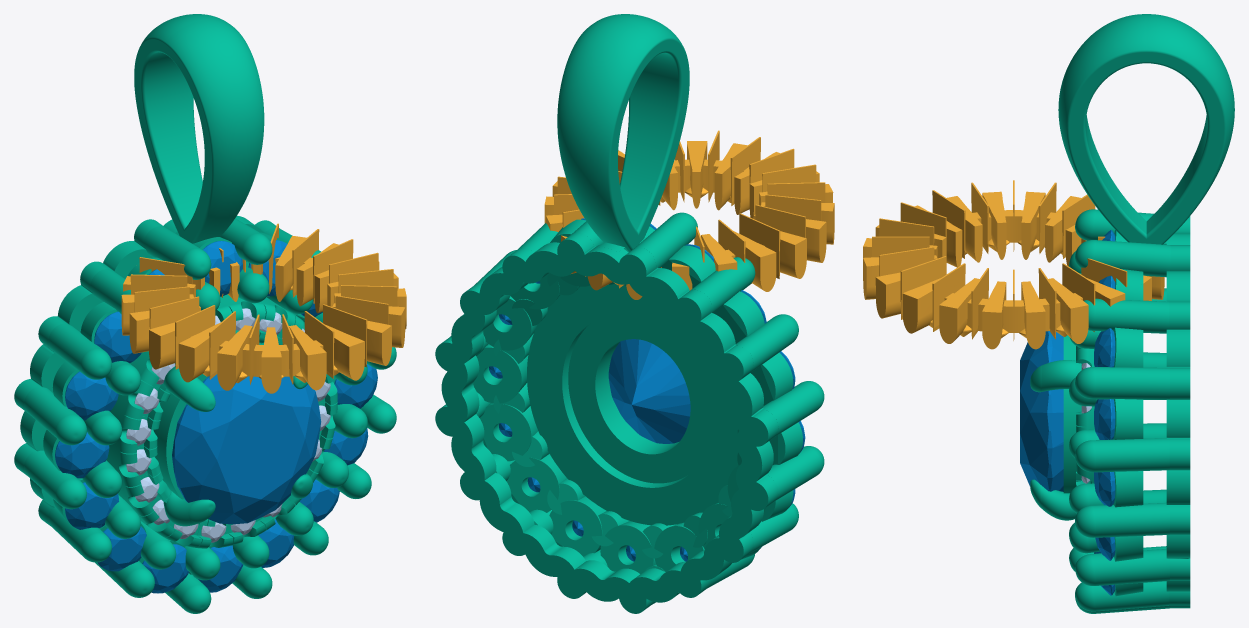
The picture shows the model from 3 angles, left to right: view 1: azimuth 30°, elevation 25°; view 2: azimuth 150°, elevation 25°; view 3: azimuth 270°, elevation 25°; orthographic projection. The views are drawn at different scales.
Visible parts, largest first — view 1: VBP182(front).3dm, Micro Pave Cut Channel Cutter (×26), Diamond_Oval, Diamond_Round (×12), Bezel (×3), Head Prong (×2), Channel Cutter; view 2: VBP182(front).3dm, Bezel (×16), Micro Pave Cut Channel Cutter (×15), Diamond_Oval, Channel Cutter; view 3: VBP182(front).3dm, Micro Pave Cut Channel Cutter (×26), Bezel (×6), Diamond_Oval, Head Prong (×2), Diamond_Round (×3), Channel Cutter.
Boxes of the visible parts, box(x1,y1,x2,y2) form: VBP182(front).3dm: box(14, 14, 396, 613); Micro Pave Cut Channel Cutter (×26): box(129, 229, 405, 393); Diamond_Oval: box(172, 374, 321, 524); Diamond_Round (×12): box(55, 241, 377, 593); Bezel (×3): box(52, 302, 263, 499); Head Prong (×2): box(163, 366, 215, 526); Channel Cutter: box(190, 257, 323, 376); VBP182(front).3dm: box(435, 14, 824, 613); Bezel (×16): box(473, 219, 802, 573); Micro Pave Cut Channel Cutter (×15): box(687, 137, 826, 291); Diamond_Oval: box(608, 339, 690, 443); Channel Cutter: box(673, 159, 764, 257); VBP182(front).3dm: box(1058, 14, 1234, 613); Micro Pave Cut Channel Cutter (×26): box(863, 182, 1127, 349); Bezel (×6): box(1063, 269, 1143, 561); Diamond_Oval: box(1020, 331, 1063, 491); Head Prong (×2): box(1030, 360, 1081, 520); Diamond_Round (×3): box(1094, 328, 1115, 506); Channel Cutter: box(944, 210, 1082, 332).
Bounding box in the file's own units: 2.04 × 3.26 × 1.9.
